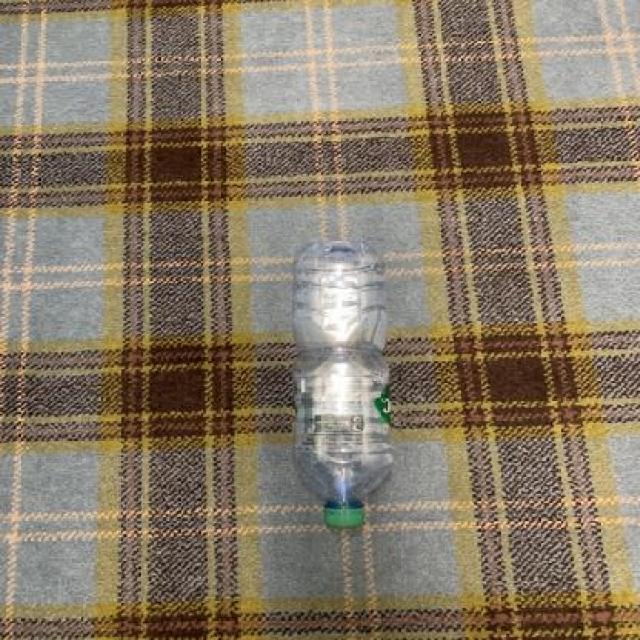trash: (288, 237, 402, 525)
